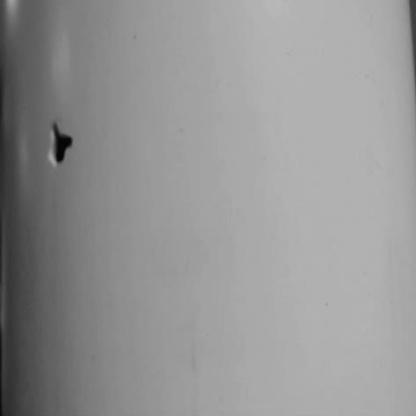kongdong: (40, 115, 86, 172)
